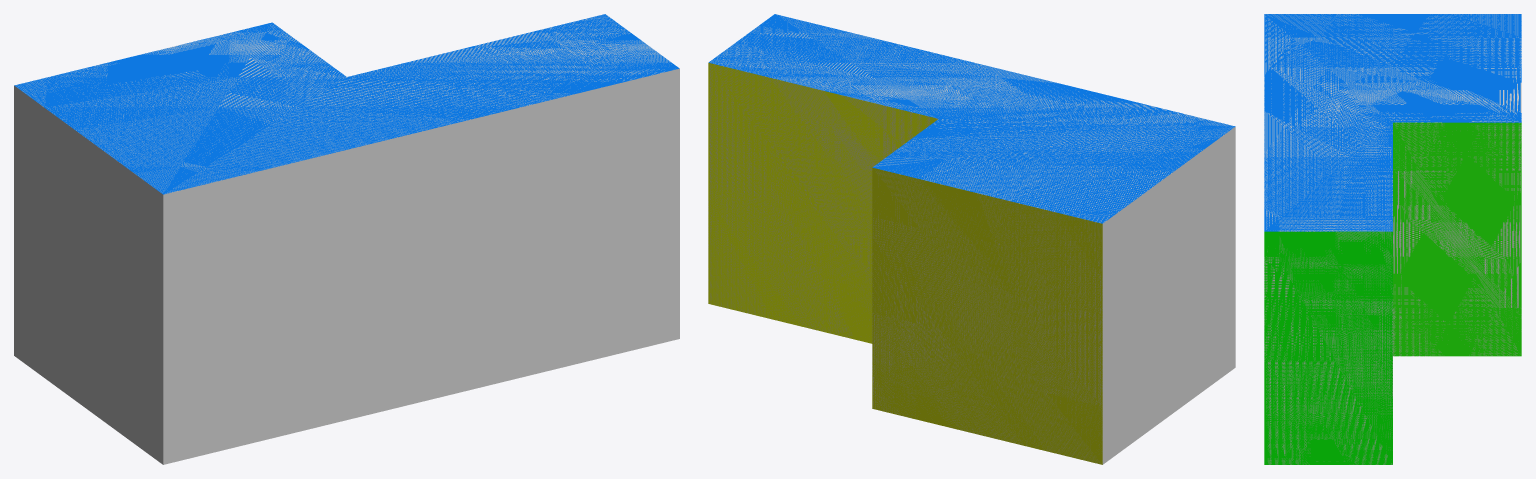
The model's file is Figura10.dae.
3 views of the same model, side by side, from view 1: azimuth 30°, elevation 25°; view 2: azimuth 150°, elevation 25°; view 3: azimuth 270°, elevation 25° (orthographic). The views are drawn at different scales.
Visible parts, largest first — view 1: SketchUp (×2); view 2: SketchUp (×4); view 3: SketchUp (×3).
Boxes of the visible parts, x1=… form: SketchUp (×2): x1=14, y1=14, x2=679, y2=464; SketchUp (×4): x1=708, y1=14, x2=1235, y2=464; SketchUp (×3): x1=1264, y1=14, x2=1521, y2=464.
Size of the model in its own units: 31.5 by 15.75 by 15.75.
